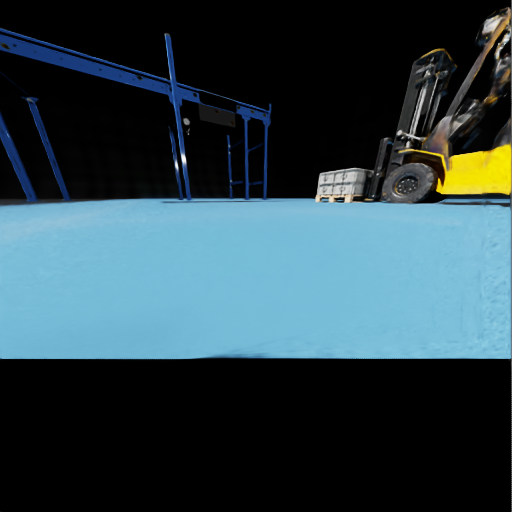transportation_area: (333, 182, 369, 194), (185, 93, 186, 94), (170, 89, 171, 90), (61, 58, 62, 59), (14, 45, 15, 46)
